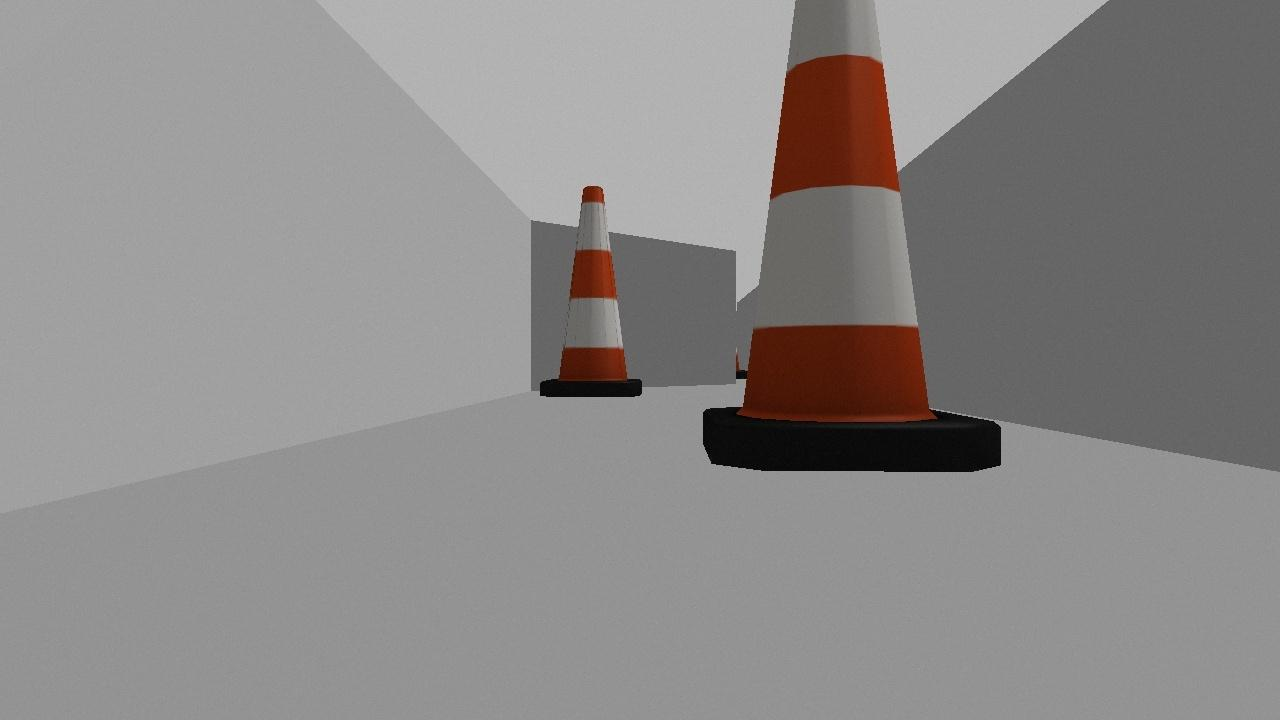cone_barrel: (689, 0, 1021, 485), (526, 167, 652, 404)
